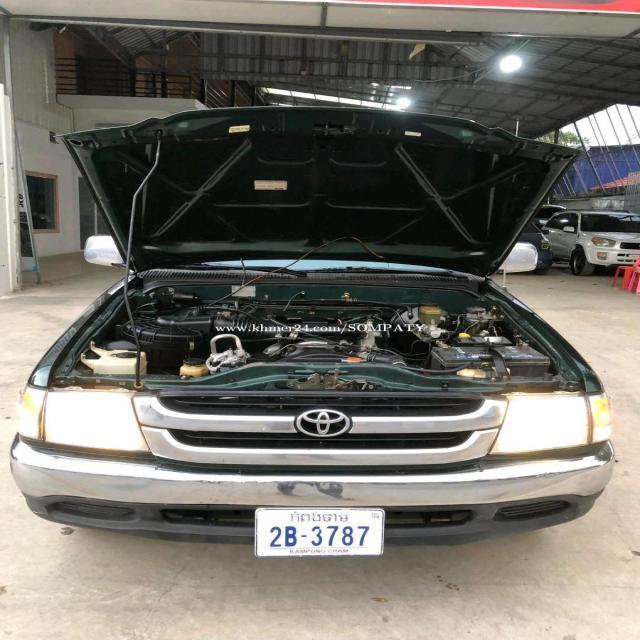Kampong_Cham: (290, 511, 348, 523)
